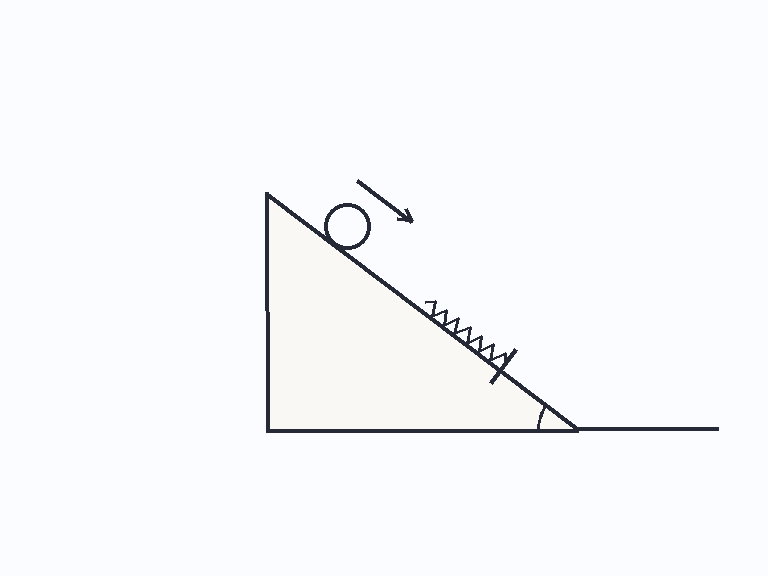ball: (322, 201, 372, 251)
ramp: (265, 192, 580, 431)
spring: (423, 299, 508, 365)
